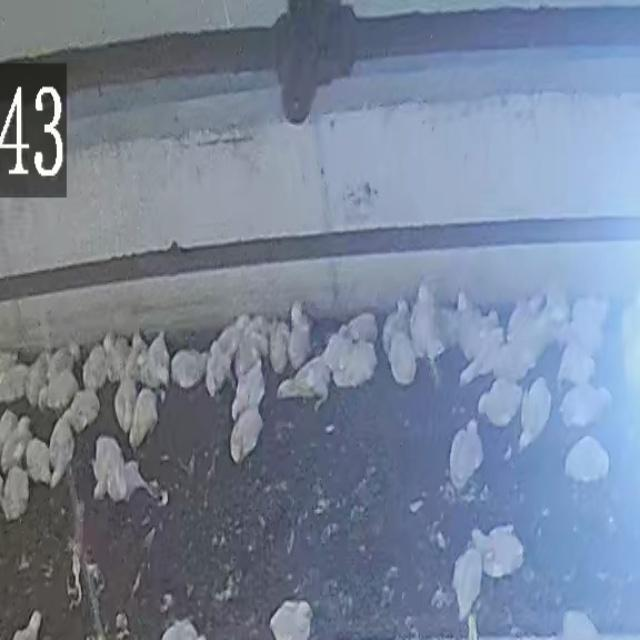chicken: (408, 283, 446, 371), (472, 523, 525, 579), (557, 381, 611, 432), (517, 376, 552, 453), (280, 358, 332, 407), (446, 419, 484, 485), (562, 435, 612, 485), (477, 376, 522, 430), (449, 548, 484, 615), (231, 361, 267, 425), (47, 419, 75, 490), (556, 342, 598, 389), (287, 300, 314, 370), (3, 416, 34, 476), (269, 599, 314, 640), (142, 329, 172, 389), (1, 464, 32, 522), (66, 387, 102, 435), (387, 332, 418, 386), (44, 368, 81, 413), (120, 458, 156, 504), (131, 389, 160, 446), (232, 408, 265, 458), (169, 349, 208, 390), (114, 374, 138, 436), (23, 437, 52, 487), (205, 343, 231, 396), (213, 313, 246, 353), (384, 299, 412, 346), (84, 343, 110, 392), (339, 311, 379, 341)
